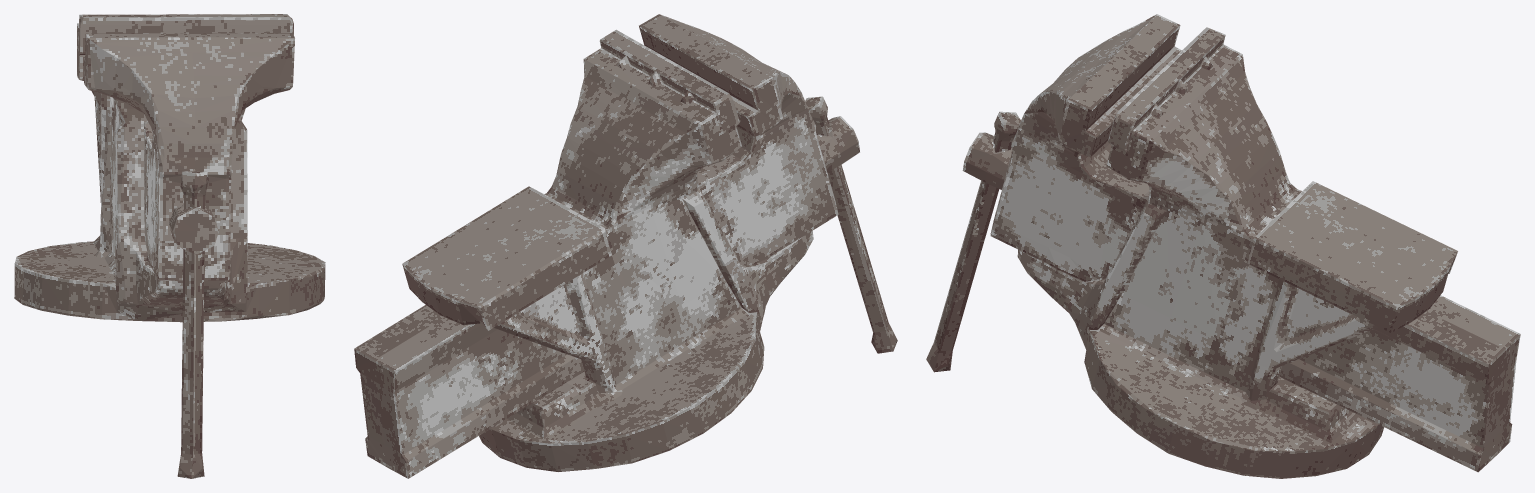
The model's file is vice.glb.
3 renders of one model, left to right at view 1: azimuth 30°, elevation 25°; view 2: azimuth 150°, elevation 25°; view 3: azimuth 270°, elevation 25°, orthographic. The views are drawn at different scales.
Parts seen in each view (by area): view 1: model_m; view 2: model_m; view 3: model_m.
Part boxes in pixels (x1,y1,x2,y2): model_m: (14, 14, 325, 478); model_m: (354, 14, 897, 478); model_m: (926, 14, 1520, 478).
Bounding box in the file's own units: 18.91 × 22.99 × 34.57.
Materials: 1 (1 with a texture image).
